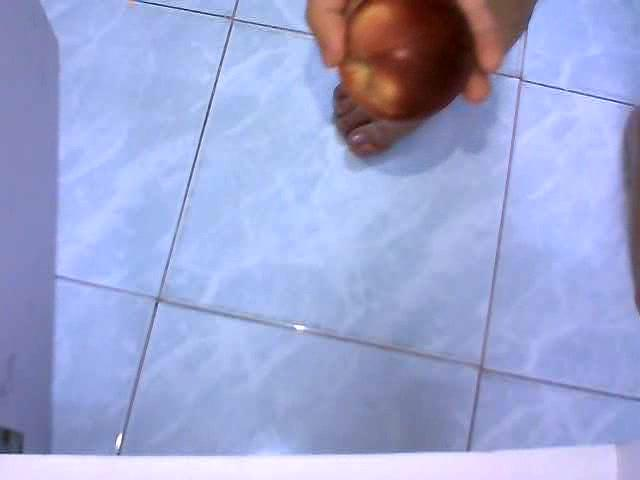apple: (337, 0, 476, 123)
